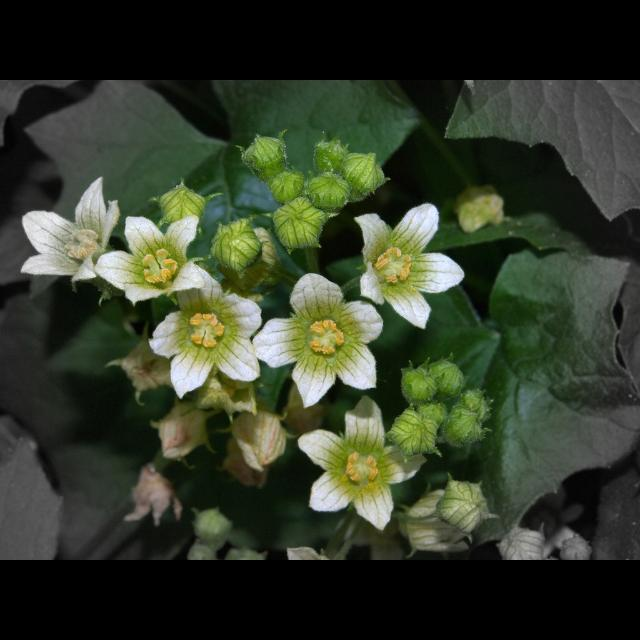Flower: (296, 395, 430, 535), (251, 272, 385, 410), (360, 198, 468, 330), (148, 282, 262, 400), (17, 172, 123, 294), (92, 215, 218, 308), (404, 490, 478, 550), (151, 395, 213, 463), (227, 408, 290, 470), (126, 462, 180, 530), (494, 527, 590, 559)
